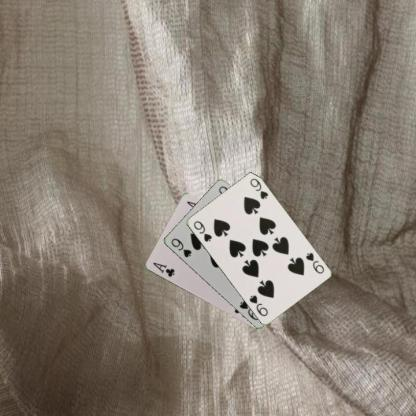9s: (168, 236, 193, 259), (190, 218, 212, 243), (303, 250, 325, 275)
Ac: (150, 260, 176, 278)
